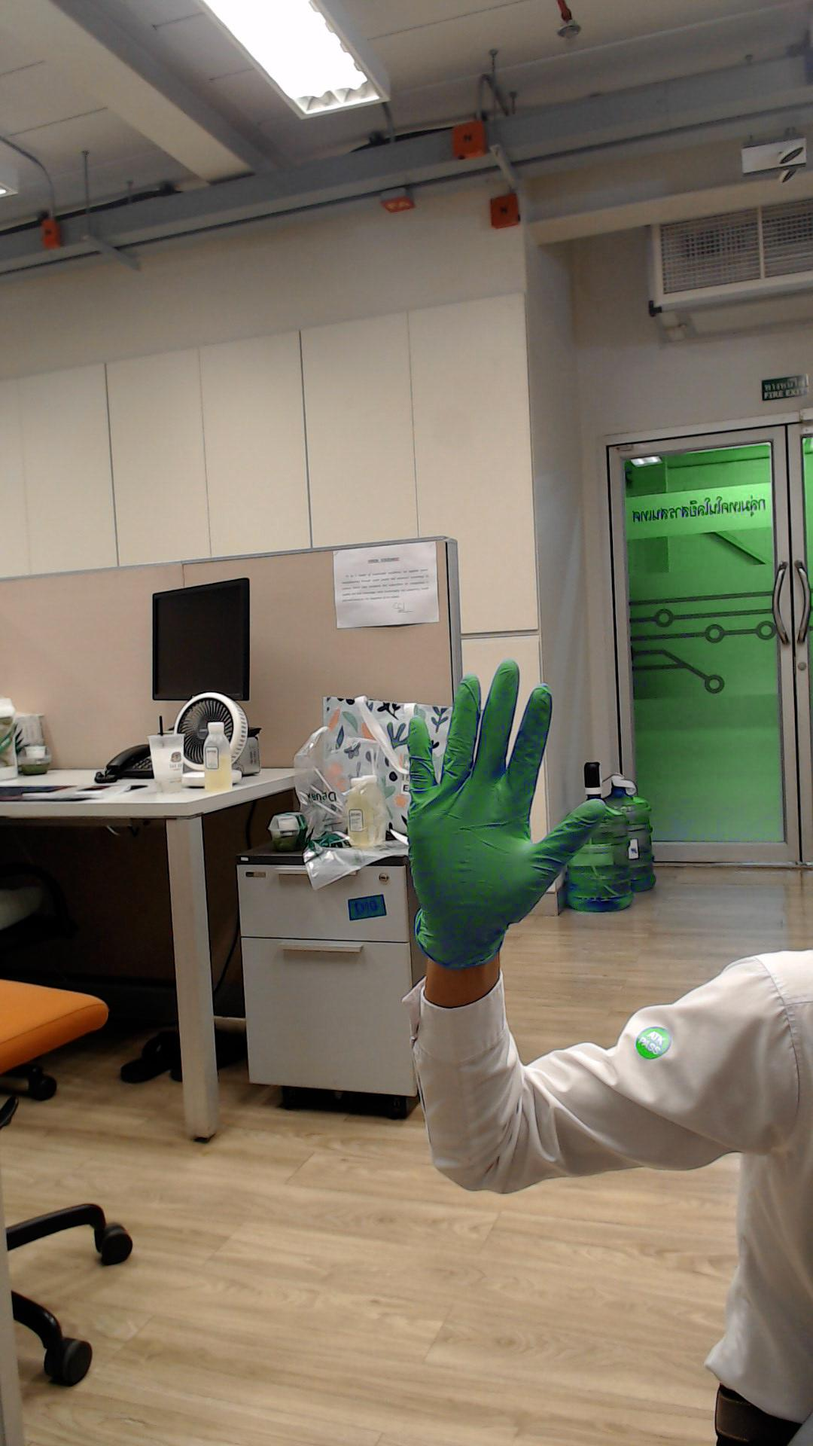gloves: (393, 655, 629, 934)
